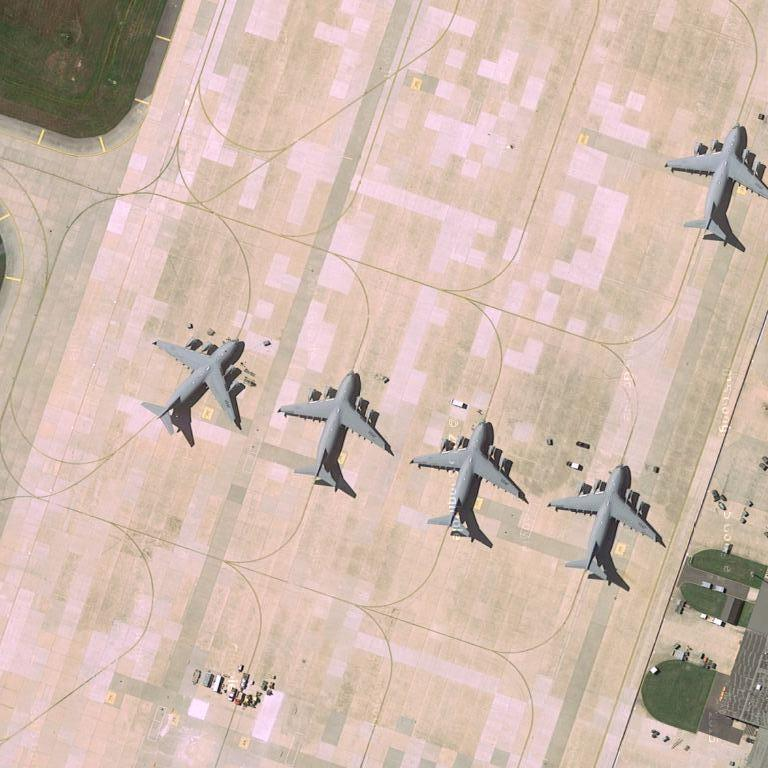C-17: (412, 414, 530, 548), (281, 365, 397, 499), (550, 460, 668, 589), (666, 118, 766, 256), (143, 327, 253, 445)
